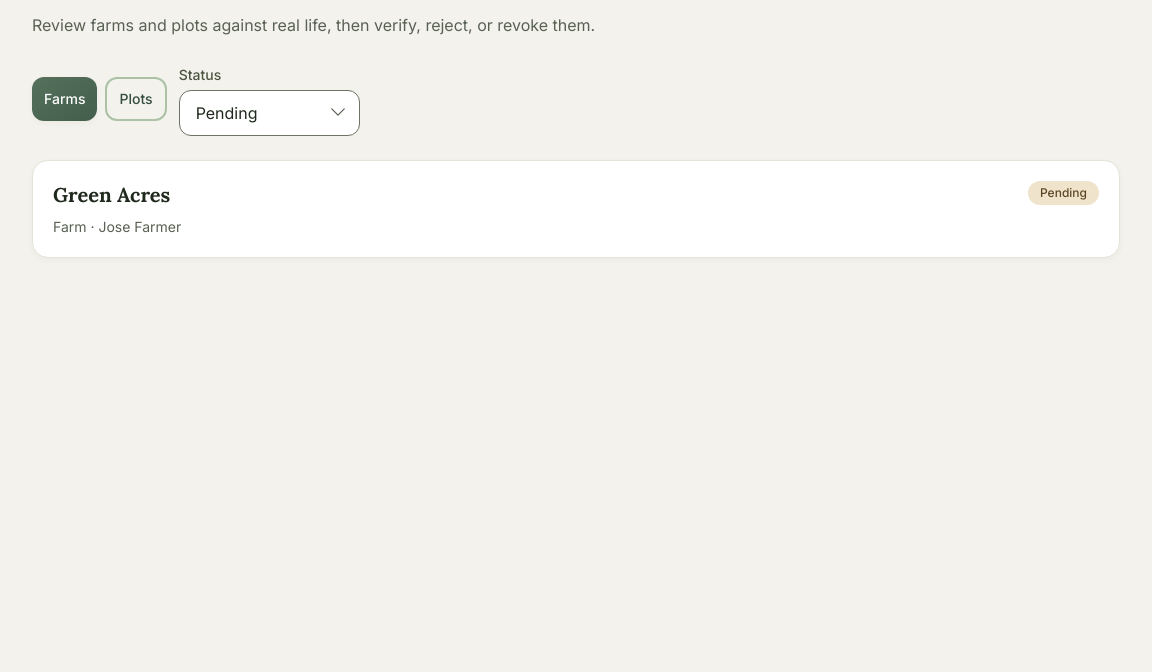
Test: AdminVerificationsPage › blocks verify without a method and keeps the dialog closed
Click the button with test id "verification-row" at (112, 194), box [32,160,1120,258]
(page scrolled)
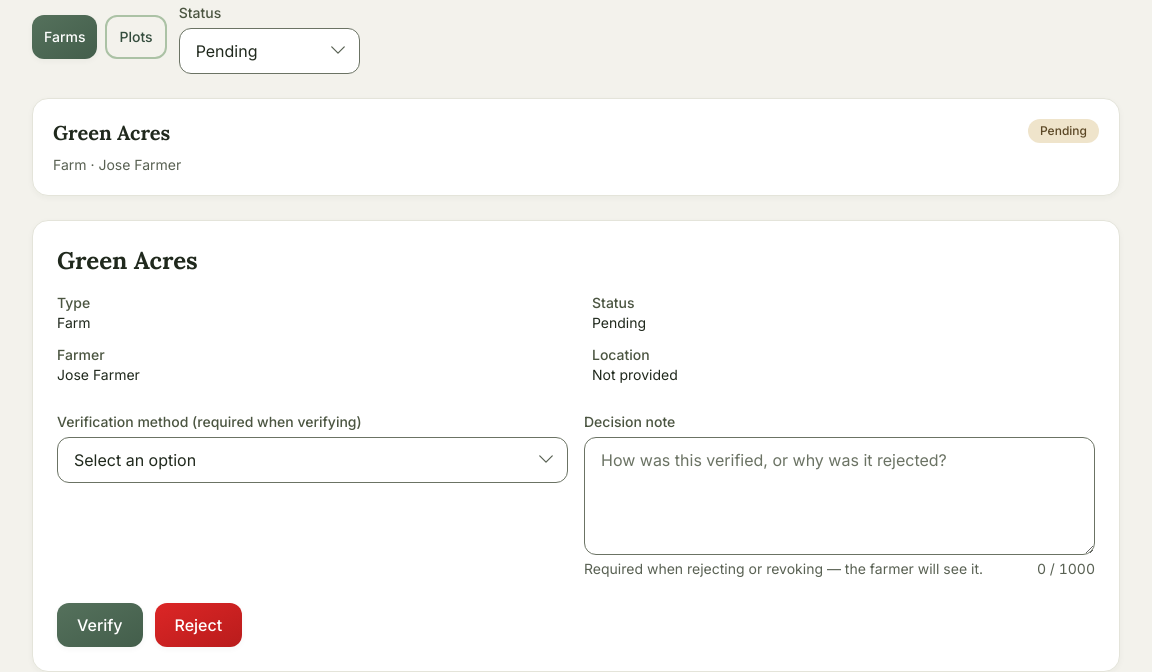
Click the button with test id "decision-verify" at (100, 625), box [57,603,142,647]
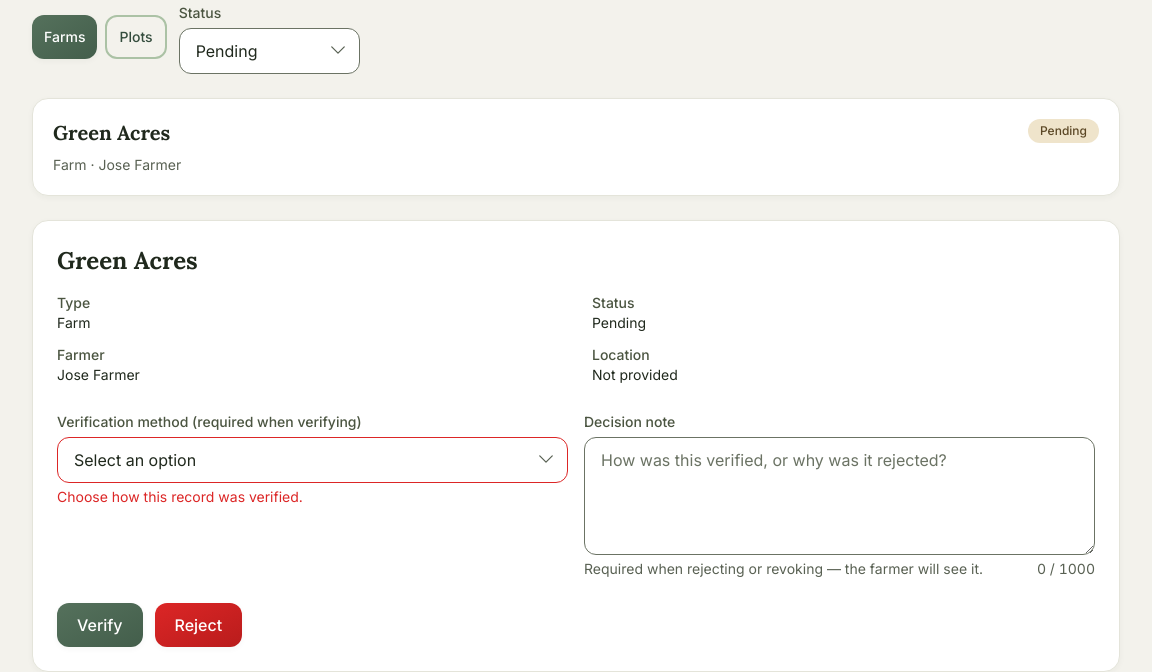
Now the text "Choose how this record was verified." is shown, box [57,488,303,505]
